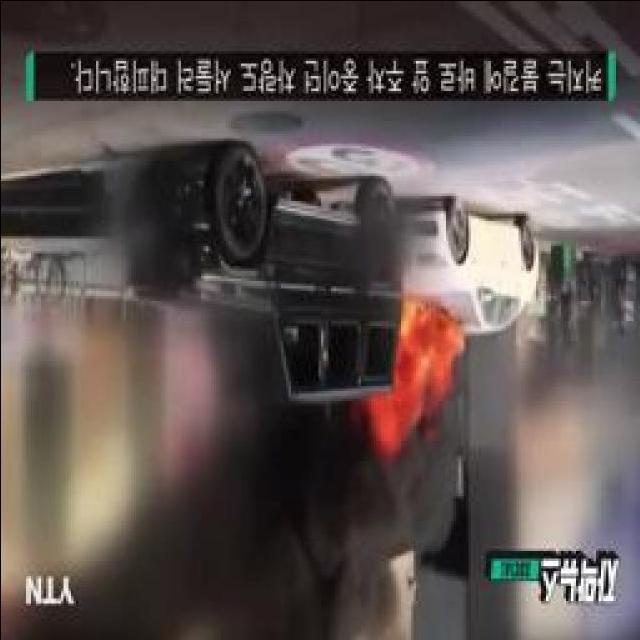Fire: (385, 300, 468, 424)
